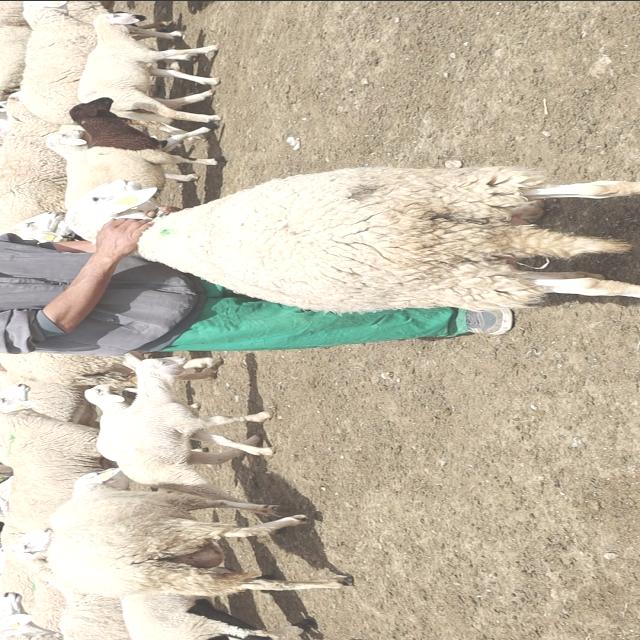Score_3: (139, 165, 639, 312)
